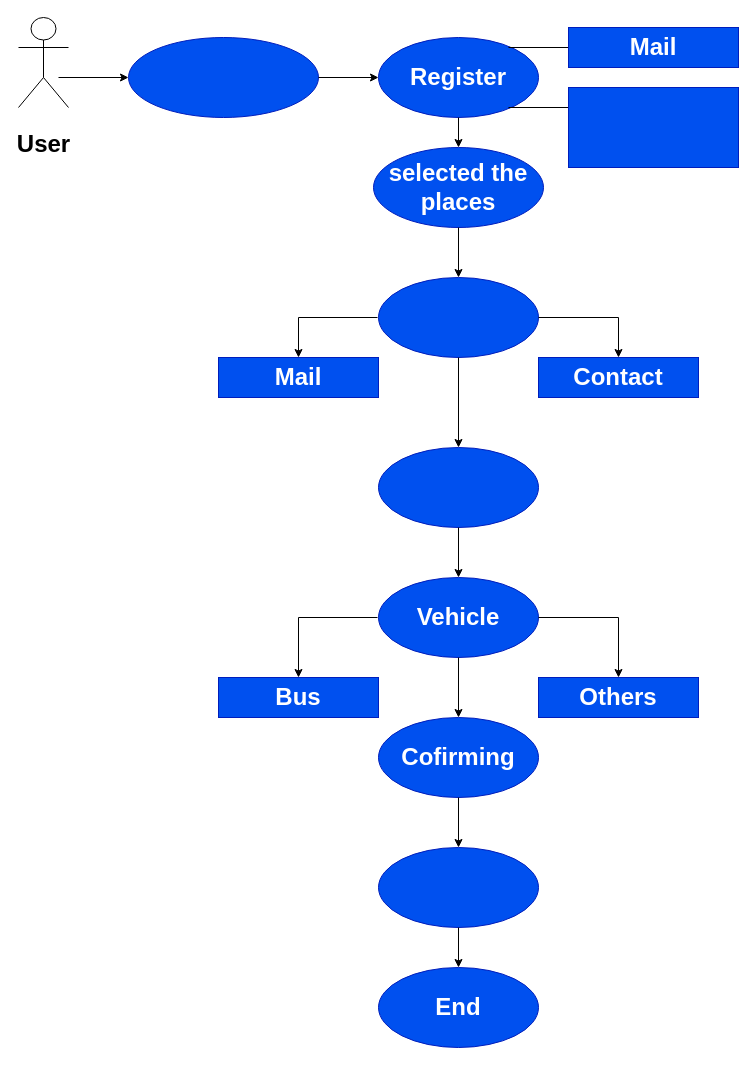
This 756x1065 diagram has some shape labels left out. Each missing label, with the centre of its shape:
"Confirm" goes at pixel 458 487.
"Contact us" goes at pixel 458 317.
"Fixing date" goes at pixel 458 887.
"login" goes at pixel 223 77.
"Mobile number" goes at pixel 653 127.
